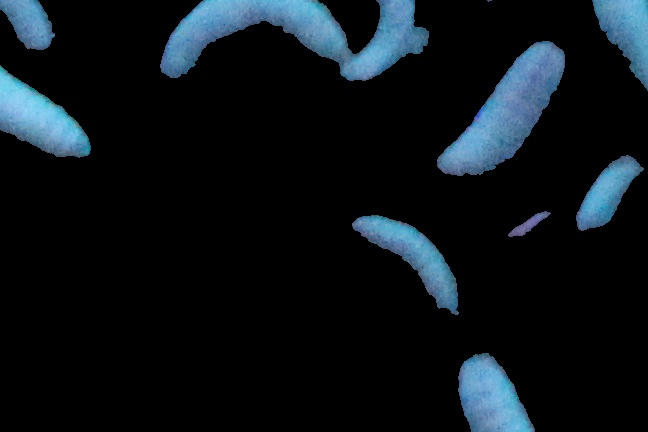larvae: (440, 45, 564, 180), (158, 1, 345, 87), (1, 33, 95, 168), (348, 215, 461, 321), (445, 343, 532, 432), (576, 148, 644, 239), (352, 1, 418, 78), (1, 1, 57, 54)
